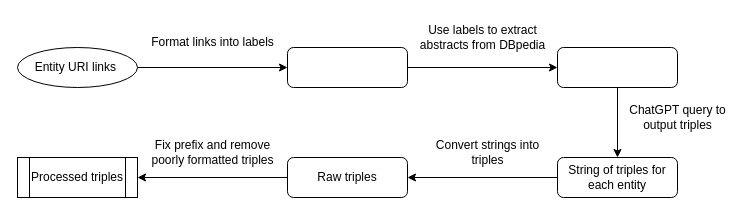
Some shapes in this 755 by 215 pixel diagram are drawn without their labels. The shapes that lost their labels are listed below. From the top down, each one's box as (x1, y1, x2, y2) in pixels, then its label:
(286, 46, 408, 88): Entity labels
(556, 46, 678, 88): Abstracts
